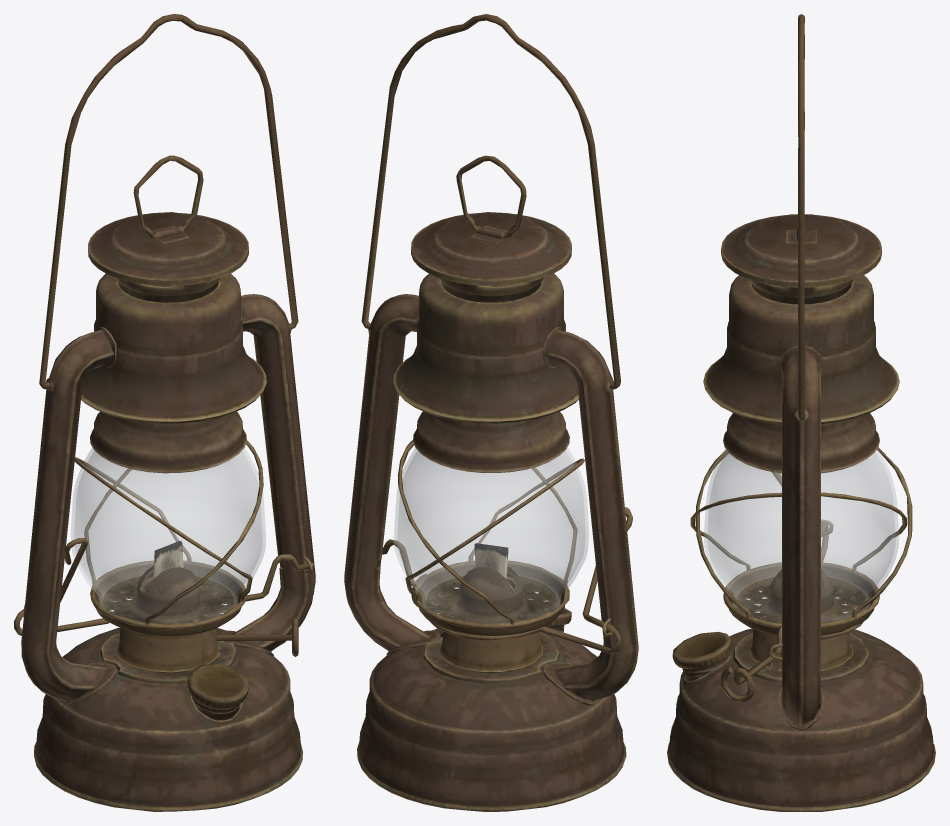
The model's file is lantern.glb.
3 views of the same model, side by side, from view 1: azimuth 30°, elevation 25°; view 2: azimuth 150°, elevation 25°; view 3: azimuth 270°, elevation 25° (orthographic).
Parts seen in each view (by area): view 1: Lantern_01, Lantern_01_glass; view 2: Lantern_01, Lantern_01_glass; view 3: Lantern_01, Lantern_01_glass.
Boxes of the visible parts, x1,y1,x2,y2 form: Lantern_01: (14, 14, 315, 811); Lantern_01_glass: (71, 448, 265, 623); Lantern_01: (344, 14, 638, 811); Lantern_01_glass: (394, 447, 588, 623); Lantern_01: (667, 14, 935, 811); Lantern_01_glass: (704, 449, 898, 623).
Size of the model in its own units: 0.1221 by 0.2942 by 0.097.
Materials: 2 (1 with a texture image).
